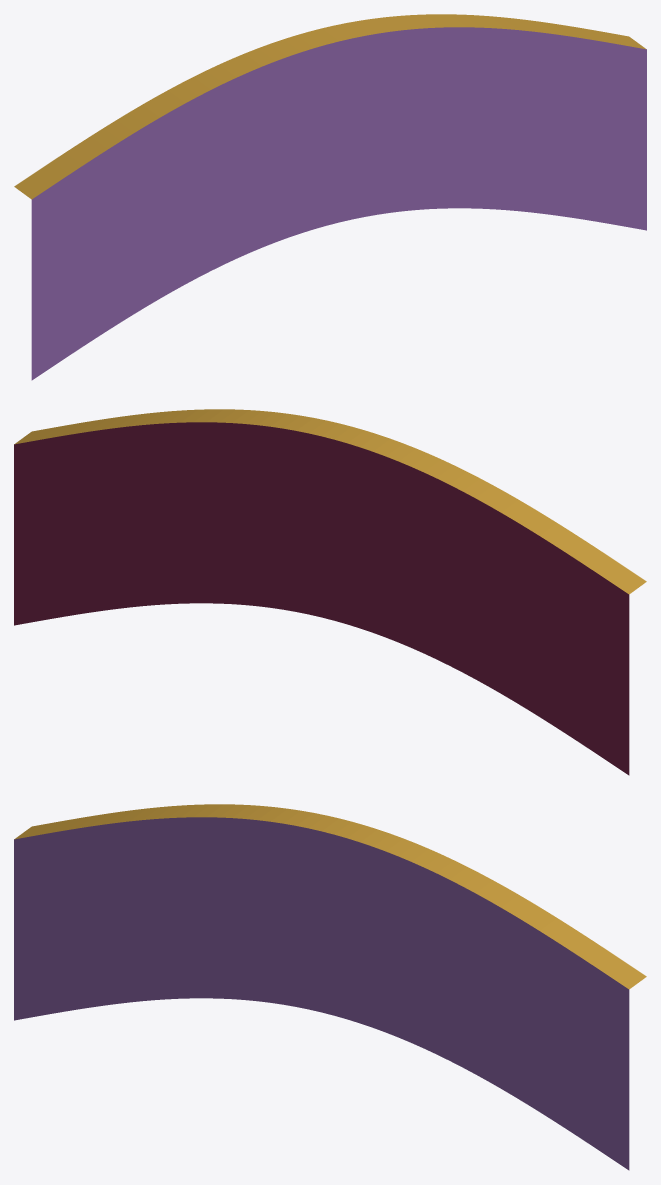
File: cutline-ribbon-fallback.glb
The picture shows the model from 3 angles, top to bottom: view 1: azimuth 30°, elevation 25°; view 2: azimuth 150°, elevation 25°; view 3: azimuth 330°, elevation 25°; orthographic projection.
Visible parts, largest first — view 1: CutlineRibbon; view 2: CutlineRibbon; view 3: CutlineRibbon.
Part boxes in pixels (box(x1,y1,x2,y2)): CutlineRibbon: box(14, 14, 646, 380); CutlineRibbon: box(14, 409, 646, 775); CutlineRibbon: box(14, 804, 646, 1170).
Size of the model in its own units: 4.8 by 1.97 by 0.24.
